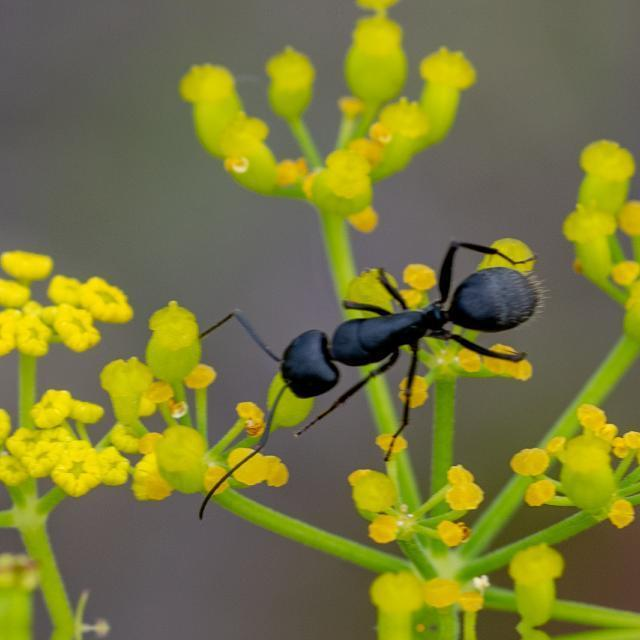Camponotus: (206, 238, 558, 422)
